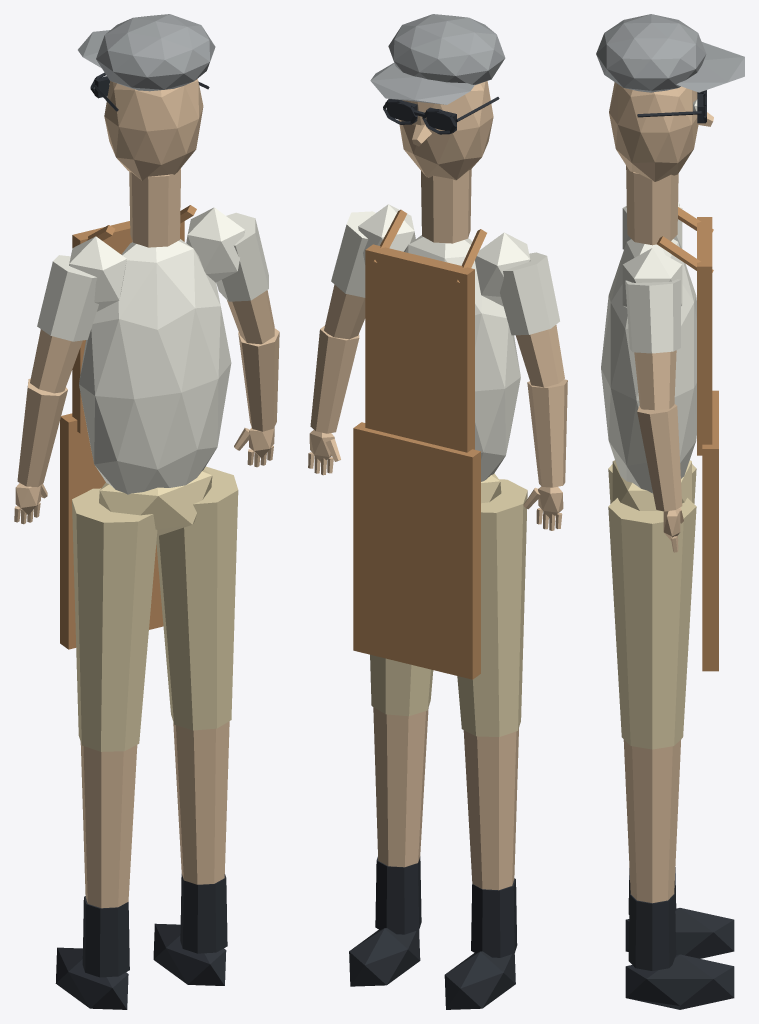
File: OutfitGrillMaster.fbx
3 views of the same model, side by side, from view 1: azimuth 30°, elevation 25°; view 2: azimuth 150°, elevation 25°; view 3: azimuth 270°, elevation 25° (orthographic). The views are drawn at different scales.
Visible parts, largest first — view 1: Torso, ThighLeft, ThighRight, CalfLeft, CalfRight, Face, HatCrown, ApronSkirt, SleeveLeft, Neck, Waist, BootTopLeft (+12 smaller); view 2: ApronSkirt, ApronBib, ThighLeft, Torso, CalfLeft, CalfRight, HatCrown, Face, SleeveLeft, ForearmSkinLeft, ForearmSkinRight, Neck (+12 smaller); view 3: ThighRight, Torso, CalfRight, Face, HatCrown, FootRight, ApronSkirt, SleeveRight, ApronBib, ForearmSkinRight, Neck, BootTopRight (+8 smaller).
Part boxes in pixels (x1=…): Torso: x1=79, y1=239, x2=231, y2=494; ThighLeft: x1=72, y1=488, x2=157, y2=751; ThighRight: x1=156, y1=466, x2=238, y2=730; CalfLeft: x1=80, y1=742, x2=137, y2=908; CalfRight: x1=173, y1=721, x2=229, y2=884; Face: x1=104, y1=79, x2=203, y2=180; HatCrown: x1=96, y1=14, x2=215, y2=91; ApronSkirt: x1=60, y1=413, x2=163, y2=649; SleeveLeft: x1=37, y1=255, x2=98, y2=341; Neck: x1=129, y1=168, x2=180, y2=247; Waist: x1=99, y1=469, x2=212, y2=536; BootTopLeft: x1=82, y1=896, x2=129, y2=977; ApronSkirt: x1=353, y1=422, x2=480, y2=679; ApronBib: x1=365, y1=244, x2=474, y2=452; ThighLeft: x1=457, y1=479, x2=527, y2=736; Torso: x1=404, y1=235, x2=520, y2=481; CalfLeft: x1=463, y1=728, x2=518, y2=890; CalfRight: x1=373, y1=707, x2=428, y2=867; HatCrown: x1=388, y1=14, x2=505, y2=84; Face: x1=398, y1=81, x2=493, y2=180; SleeveLeft: x1=500, y1=252, x2=559, y2=335; ForearmSkinLeft: x1=527, y1=379, x2=567, y2=487; ForearmSkinRight: x1=310, y1=325, x2=359, y2=433; Neck: x1=421, y1=169, x2=471, y2=243; ThighRight: x1=608, y1=498, x2=696, y2=749; Torso: x1=601, y1=239, x2=696, y2=493; CalfRight: x1=623, y1=739, x2=681, y2=903; Face: x1=609, y1=82, x2=698, y2=181; HatCrown: x1=596, y1=14, x2=706, y2=92; FootRight: x1=625, y1=954, x2=734, y2=1009; ApronSkirt: x1=702, y1=390, x2=718, y2=671; SleeveRight: x1=625, y1=279, x2=680, y2=353; ApronBib: x1=697, y1=217, x2=712, y2=455; ForearmSkinRight: x1=637, y1=404, x2=682, y2=511; Neck: x1=626, y1=165, x2=678, y2=245; BootTopRight: x1=628, y1=894, x2=676, y2=970.
Size of the model in its own units: 0.4812 by 1.75 by 0.2451.
